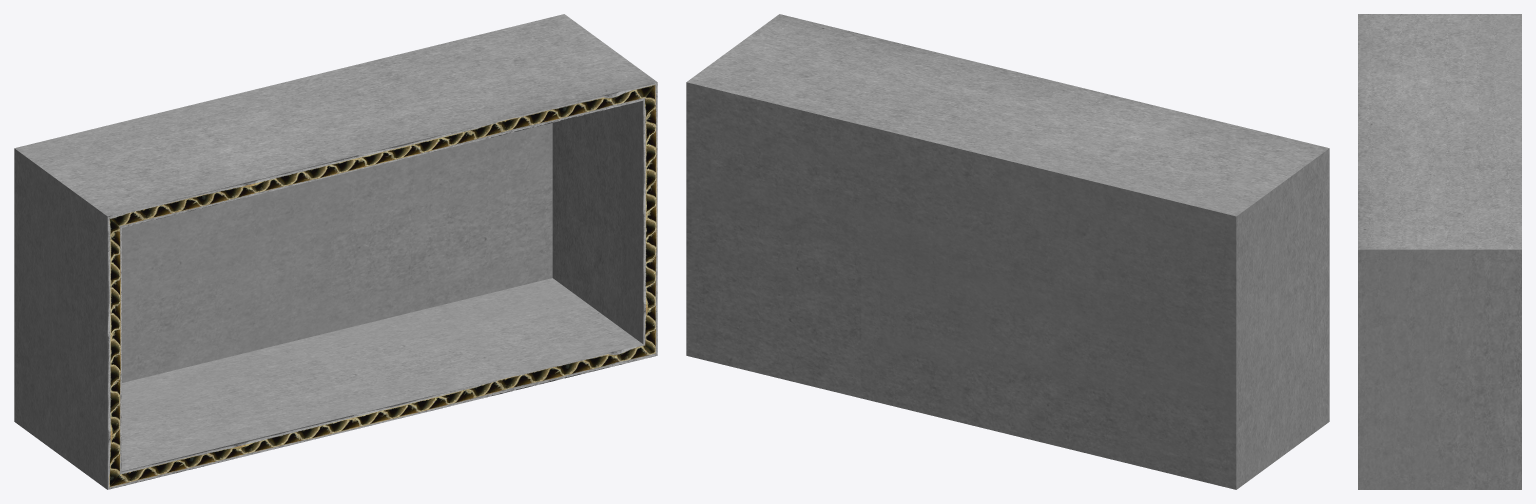
File: Industrialist Carriage.fbx
The picture shows the model from 3 angles, left to right: view 1: azimuth 30°, elevation 25°; view 2: azimuth 150°, elevation 25°; view 3: azimuth 270°, elevation 25°; orthographic projection. The views are drawn at different scales.
Visible parts, largest first — view 1: Industrialist_Carriage; view 2: Industrialist_Carriage; view 3: Industrialist_Carriage.
Boxes of the visible parts, x1,y1,x2,y2 form: Industrialist_Carriage: (14,14,657,489); Industrialist_Carriage: (686,14,1329,489); Industrialist_Carriage: (1358,14,1521,489).
Bounding box in the file's own units: 33.9 × 16.1 × 9.95.
2 materials, 2 textured.
